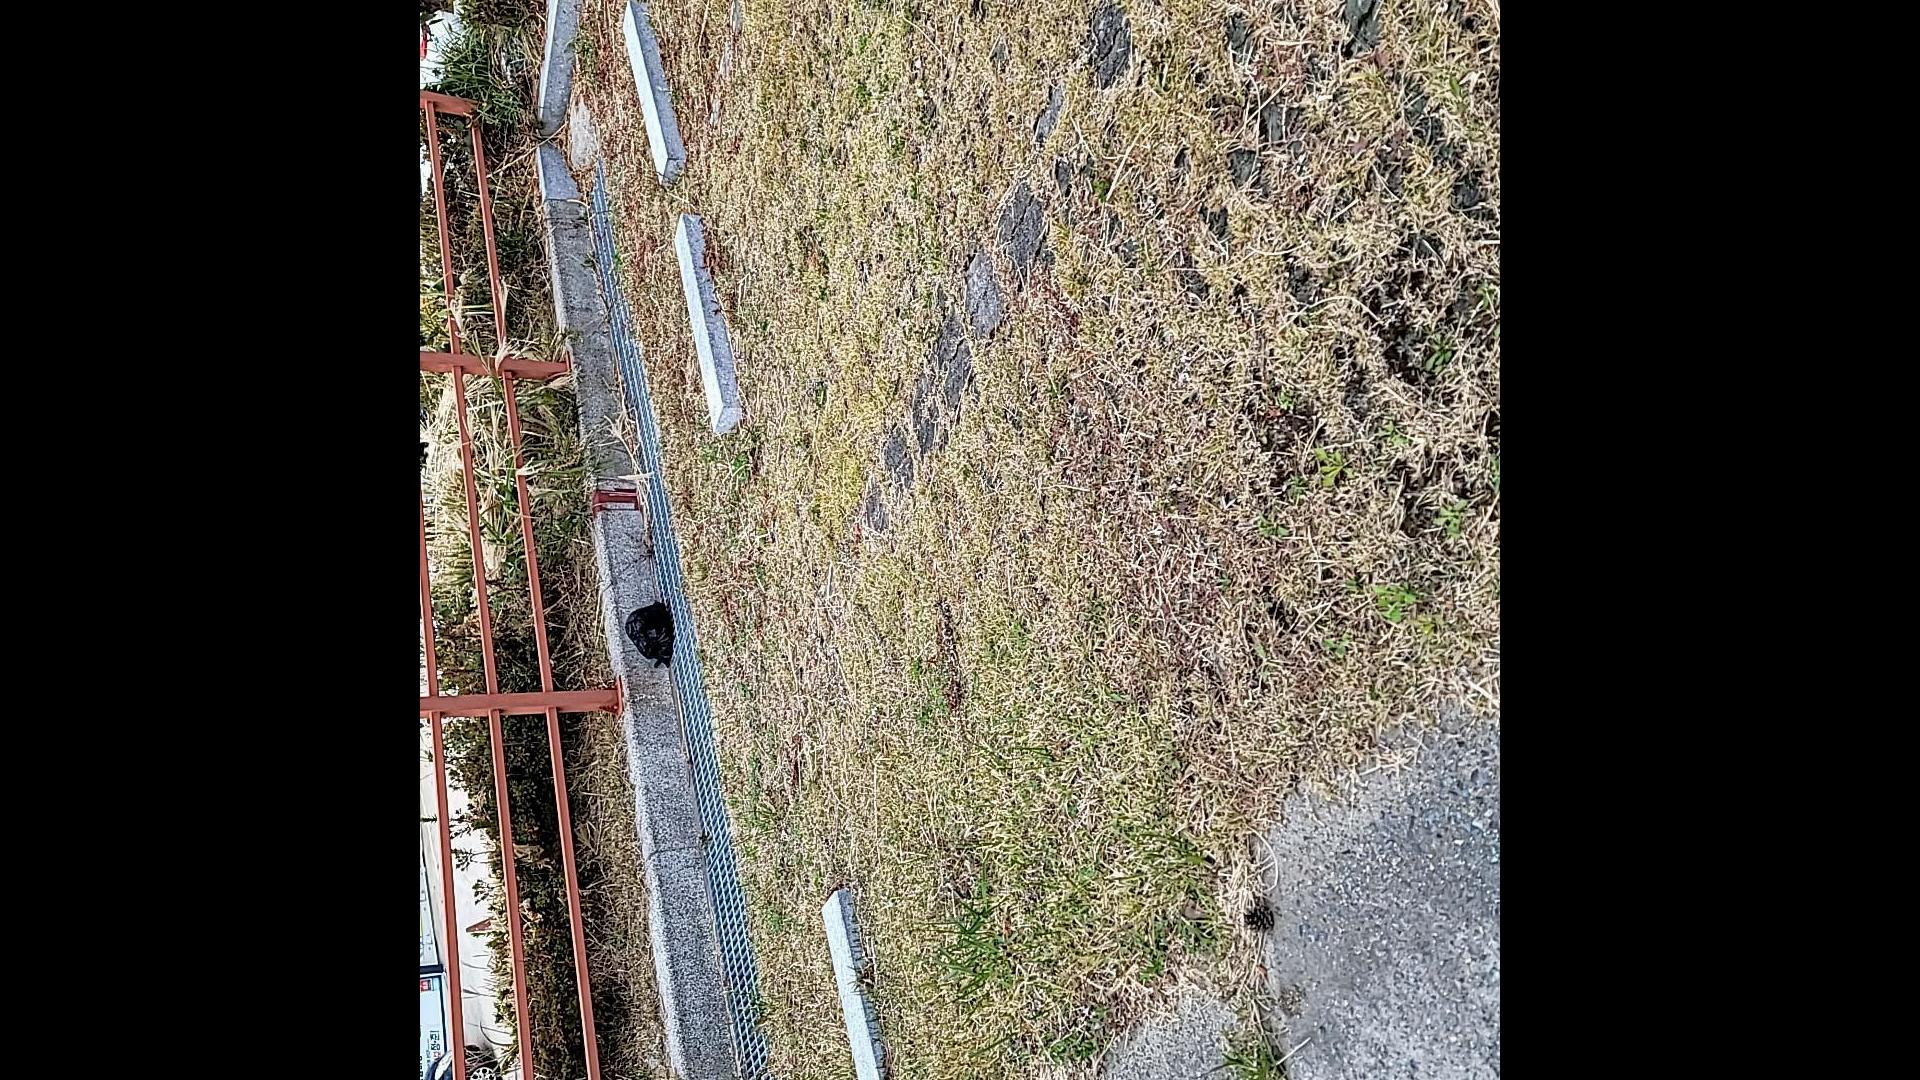black_bag: (618, 596, 675, 674)
